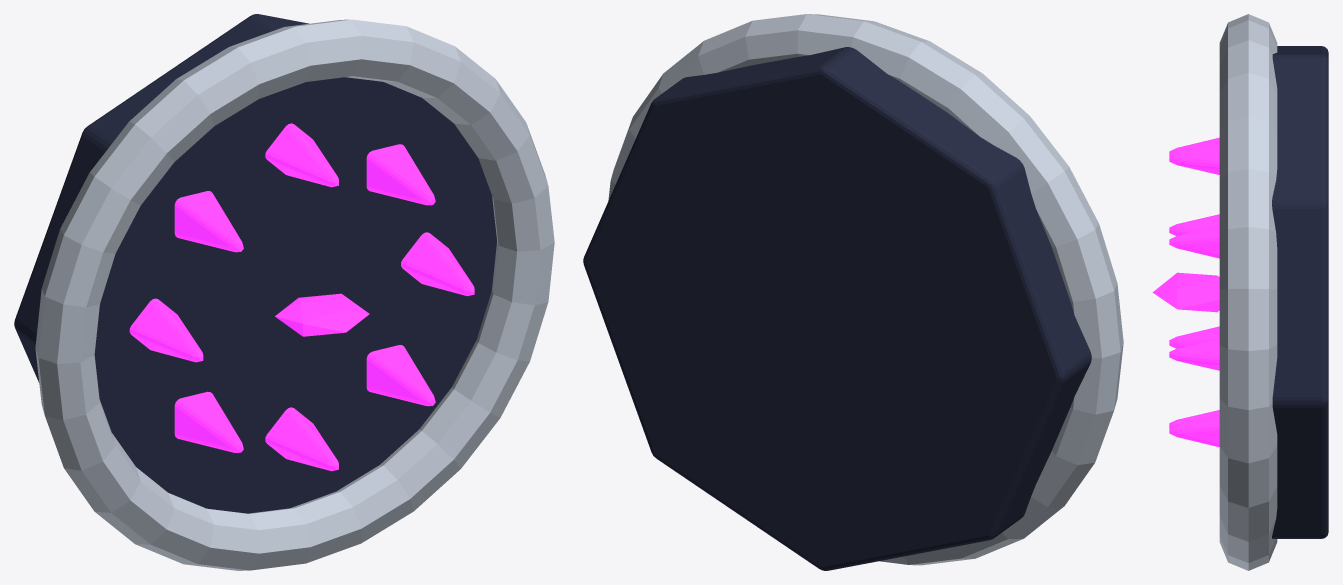
Rendered from common_rune.glb.
3 renders of one model, left to right at view 1: azimuth 30°, elevation 25°; view 2: azimuth 150°, elevation 25°; view 3: azimuth 270°, elevation 25°, orthographic. The views are drawn at different scales.
Visible parts, largest first — view 1: RuneBody, Torus.027, Star_05, Star_01, Star_03, Star_07, Core, Star_00, Star_04, Star_06, Star_02; view 2: RuneBody, Torus.027; view 3: Torus.027, RuneBody, Core, Star_01, Star_07, Star_00, Star_02, Star_05, Star_04, Star_03, Star_06.
Part boxes in pixels (x1=…): RuneBody: x1=14, y1=14, x2=496, y2=513; Torus.027: x1=35, y1=19, x2=554, y2=570; Star_05: x1=174, y1=391, x2=243, y2=452; Star_01: x1=366, y1=144, x2=435, y2=205; Star_03: x1=174, y1=191, x2=243, y2=252; Star_07: x1=366, y1=345, x2=435, y2=406; Core: x1=275, y1=293, x2=369, y2=336; Star_00: x1=401, y1=232, x2=474, y2=296; Star_04: x1=129, y1=298, x2=203, y2=362; Star_06: x1=265, y1=407, x2=338, y2=471; Star_02: x1=265, y1=123, x2=338, y2=187; RuneBody: x1=583, y1=47, x2=1091, y2=570; Torus.027: x1=608, y1=14, x2=1123, y2=565; Torus.027: x1=1219, y1=14, x2=1277, y2=570; RuneBody: x1=1272, y1=46, x2=1328, y2=538; Core: x1=1152, y1=272, x2=1219, y2=312; Star_01: x1=1169, y1=225, x2=1219, y2=258; Star_07: x1=1169, y1=414, x2=1219, y2=447; Star_00: x1=1169, y1=338, x2=1219, y2=370; Star_02: x1=1169, y1=143, x2=1219, y2=174; Star_05: x1=1169, y1=326, x2=1219, y2=348; Star_04: x1=1169, y1=214, x2=1219, y2=235; Star_03: x1=1169, y1=137, x2=1219, y2=155; Star_06: x1=1169, y1=410, x2=1219, y2=427.
Bounding box in the file's own units: 1.74 × 1.74 × 0.55.
